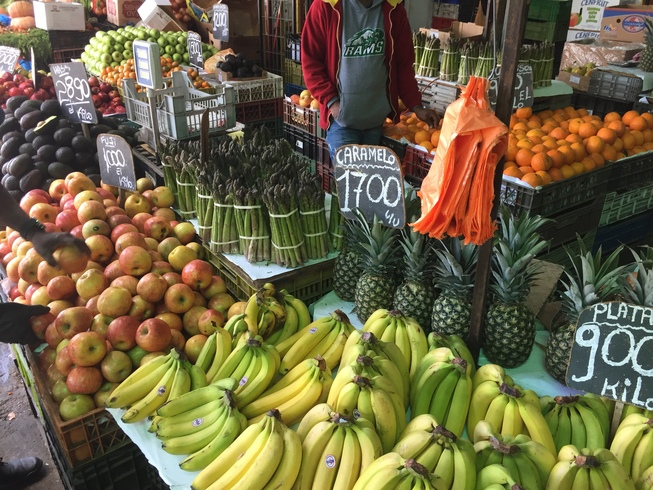precio: (574, 299, 653, 405), (331, 140, 407, 229), (53, 62, 97, 128), (96, 132, 137, 191), (485, 67, 535, 115), (183, 32, 207, 72), (212, 6, 232, 45)
